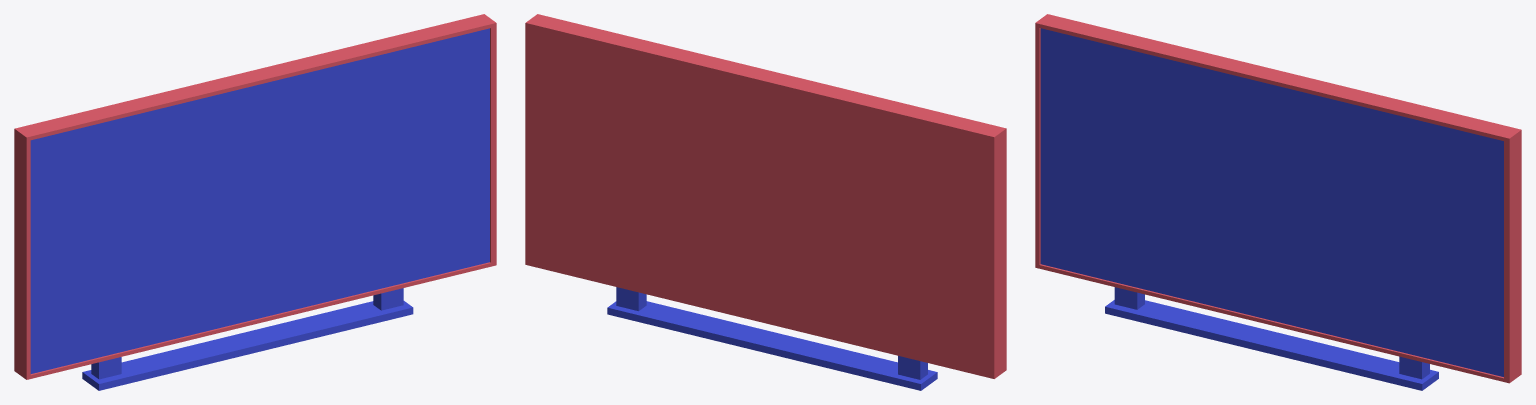
3 views of the same model, side by side, from view 1: azimuth 30°, elevation 25°; view 2: azimuth 150°, elevation 25°; view 3: azimuth 330°, elevation 25° (orthographic).
Visible parts, largest first — view 1: TV, TV_Leg; view 2: TV, TV_Leg; view 3: TV, TV_Leg.
Part boxes in pixels (x1,y1,x2,y2): TV: (14,14,496,379); TV_Leg: (82,288,413,390); TV: (525,14,1006,378); TV_Leg: (607,287,937,390); TV: (1035,14,1521,383); TV_Leg: (1105,287,1438,390).
Size of the model in its own units: 329 by 180 by 20.02.
